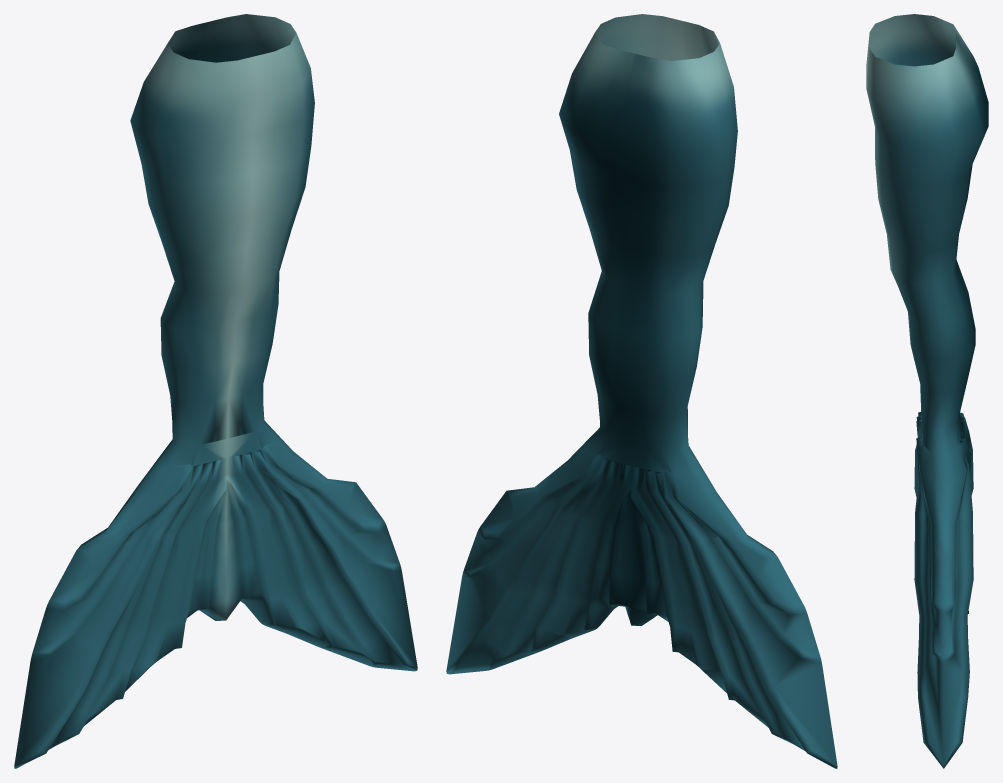
Rendered from tail3.obj.
The picture shows the model from 3 angles, left to right: view 1: azimuth 30°, elevation 25°; view 2: azimuth 150°, elevation 25°; view 3: azimuth 270°, elevation 25°; orthographic projection. The views are drawn at different scales.
Visible parts, largest first — view 1: Box001; view 2: Box001; view 3: Box001.
Boxes of the visible parts, bbox=[...] form: Box001: bbox=[14, 14, 417, 768]; Box001: bbox=[446, 14, 837, 768]; Box001: bbox=[866, 14, 988, 768].
Size of the model in its own units: 3.74 by 6.14 by 1.07.
Materials: 1 (1 with a texture image).
